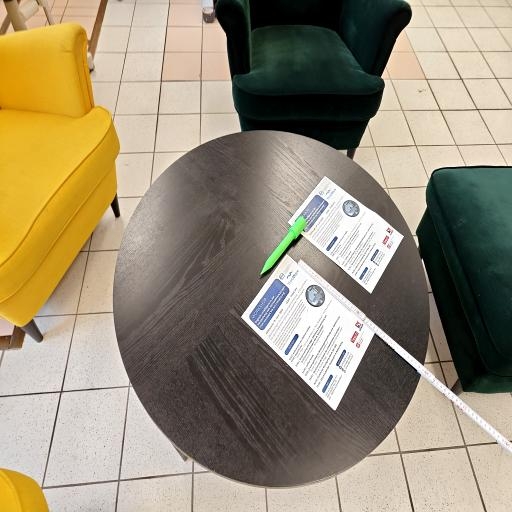Probe-Detection: (261, 216, 306, 274)
